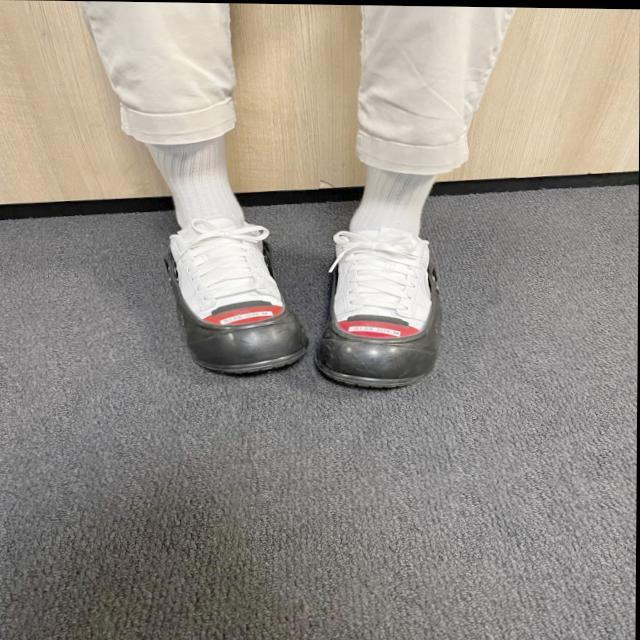shoes: (159, 216, 308, 380), (314, 240, 458, 396)
